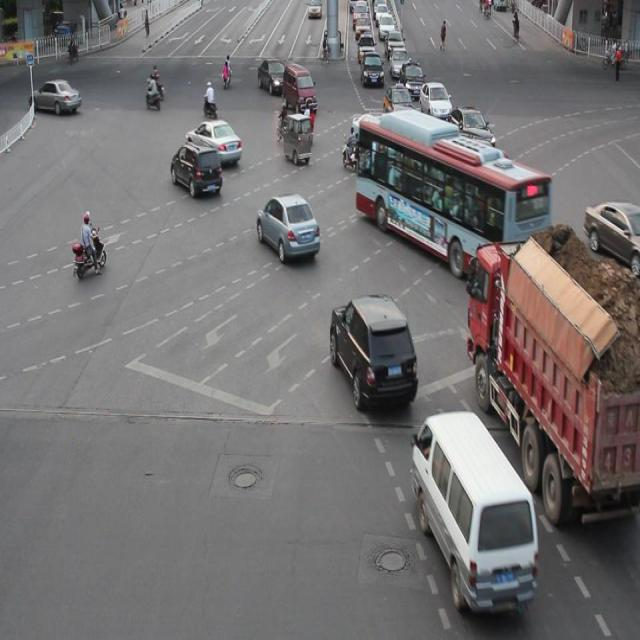bus: (466, 240, 640, 520)
car: (330, 292, 418, 410), (256, 193, 320, 263), (584, 198, 640, 271), (461, 148, 521, 209), (171, 141, 223, 196), (185, 118, 242, 166), (354, 113, 403, 163), (447, 104, 494, 151)
truck: (412, 410, 536, 613)
van: (355, 113, 550, 280)
